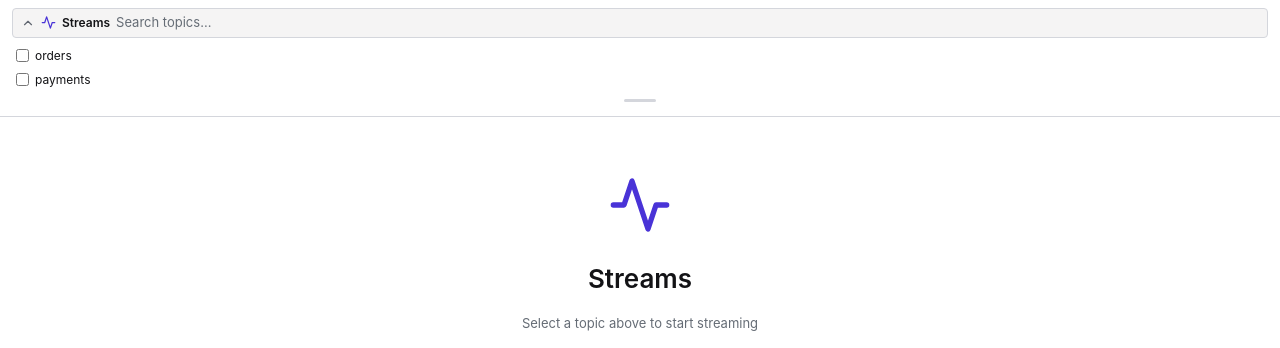
Test: [@stream-panel] StreamsPanel › search input filters topic list
In the field with placeholder "Search topics...": (688, 23) [116,13,1259,32], type "pay"
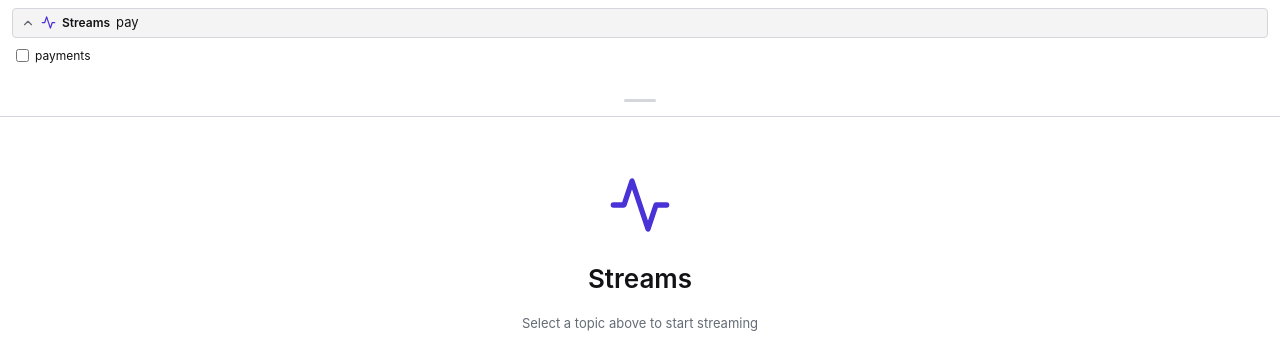
expect the text "payments" is shown: met, box [35,46,90,64]
expect the number of checkboxes is 1: met, box [16,49,29,62]
